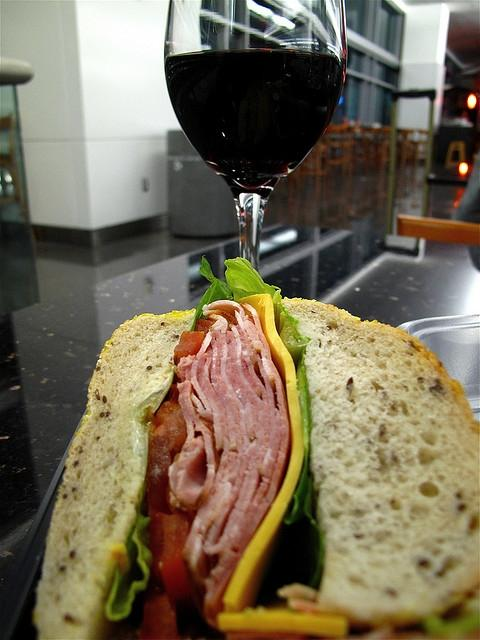tomato: (146, 378, 188, 515), (148, 506, 196, 596), (138, 591, 182, 640), (174, 331, 206, 366)
